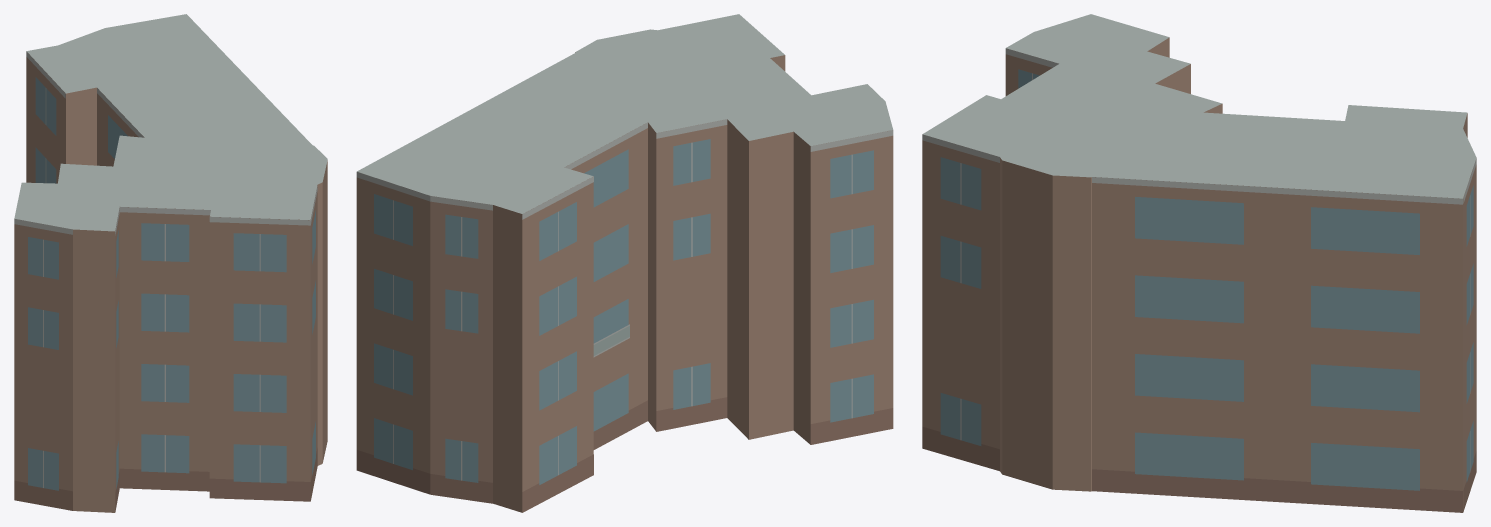
The model's file is survey-upis-32621090.glb.
3 renders of one model, left to right at view 1: azimuth 30°, elevation 25°; view 2: azimuth 150°, elevation 25°; view 3: azimuth 270°, elevation 25°, orthographic. The views are drawn at different scales.
Parts seen in each view (by area): view 1: survey-upis-32621090.tmp; view 2: survey-upis-32621090.tmp; view 3: survey-upis-32621090.tmp.
Boxes of the visible parts, x1,y1,x2,y2 form: survey-upis-32621090.tmp: (14, 14, 327, 512); survey-upis-32621090.tmp: (356, 14, 893, 512); survey-upis-32621090.tmp: (922, 14, 1476, 512).
Size of the model in its own units: 16.02 by 12.7 by 20.31.
